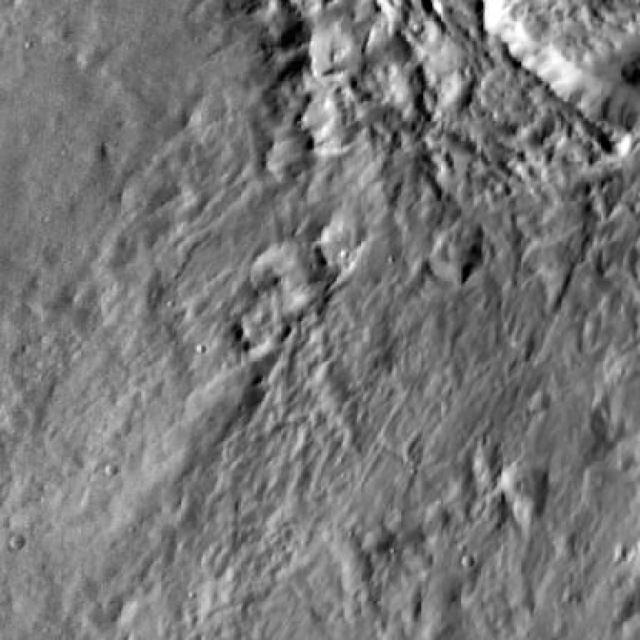crater: (187, 365, 259, 432), (281, 242, 339, 298), (424, 232, 474, 279), (264, 131, 310, 175), (121, 169, 167, 213), (506, 466, 551, 509), (438, 472, 476, 508), (466, 444, 502, 478), (414, 504, 448, 536), (316, 381, 344, 408), (75, 44, 99, 68), (82, 138, 105, 160), (525, 388, 547, 408), (17, 545, 34, 561), (156, 159, 173, 175)
